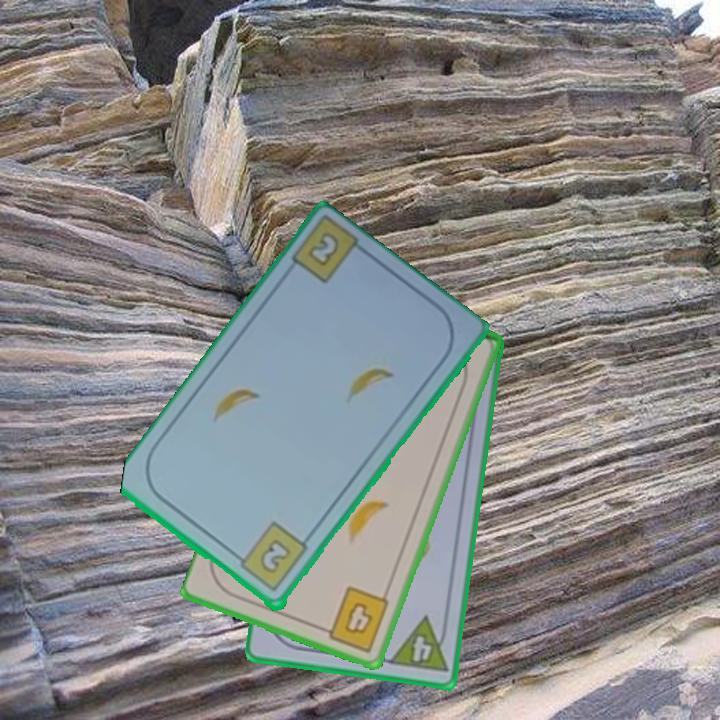2b: (230, 519, 311, 596), (304, 228, 343, 270)
4b: (316, 582, 393, 656)
4p: (385, 613, 452, 675)
